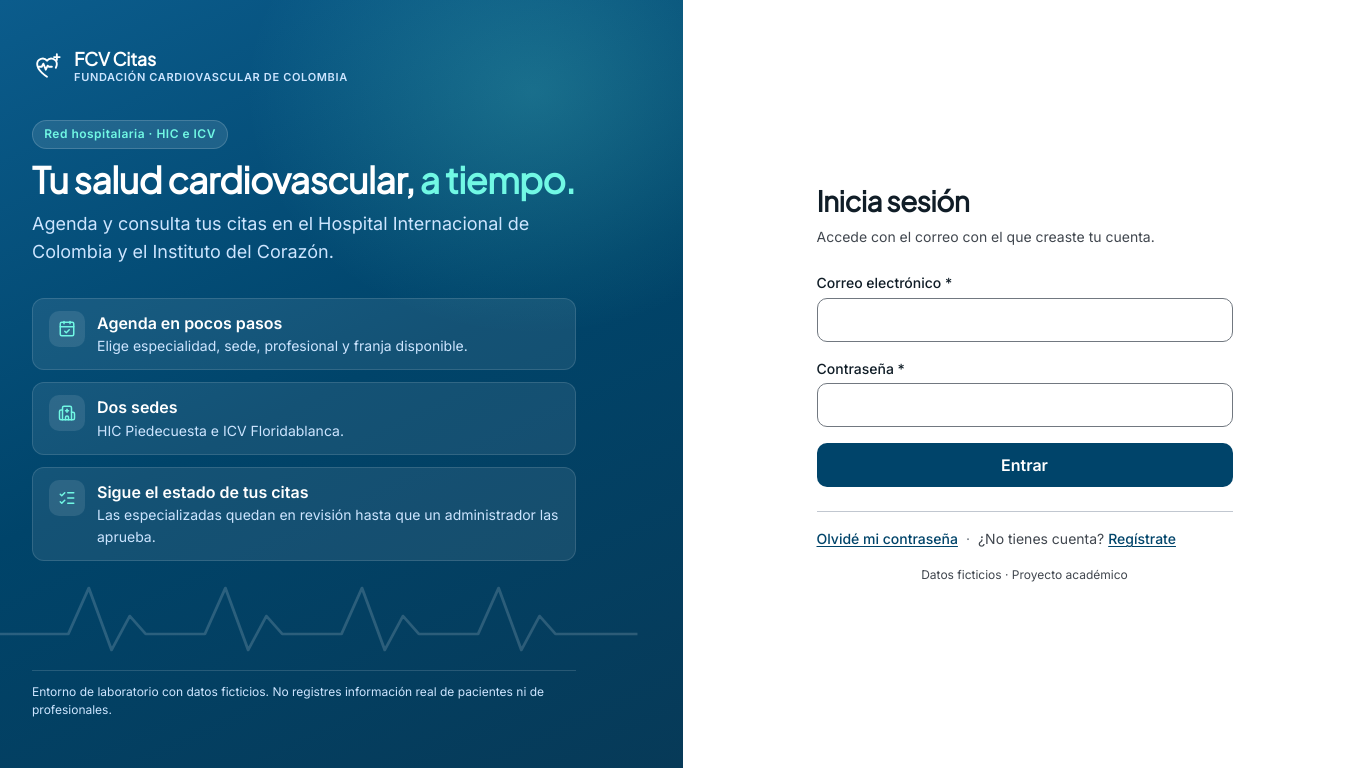
Test: navegación por rol (HU-005 CA-08) › "/" lleva al inicio del rol
Type "persona@fcv.test" into the field labelled "Correo electrónico *" at [1024, 320], box [816,298,1232,342]
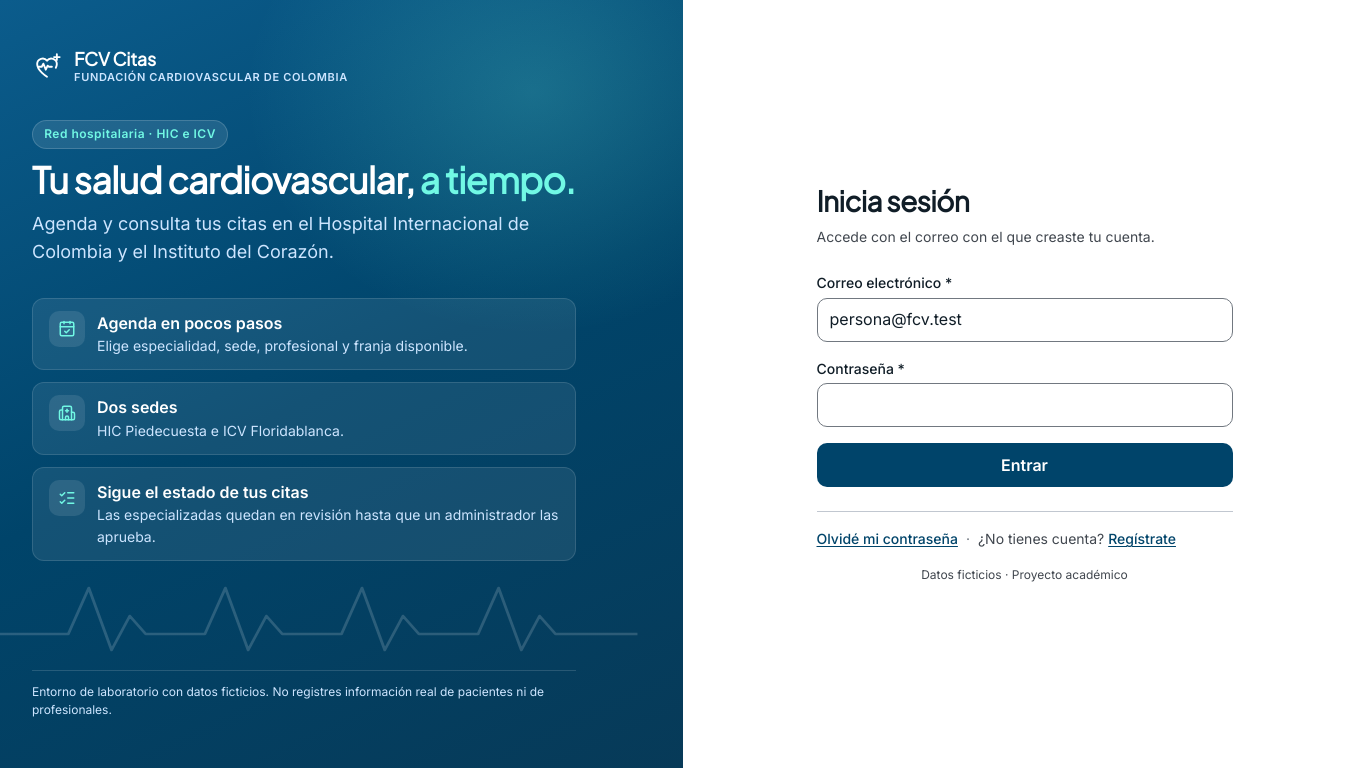
Type "Clave-Secreta#2026" into the password field labelled "Contraseña *" at [1024, 405], box [816,383,1232,427]
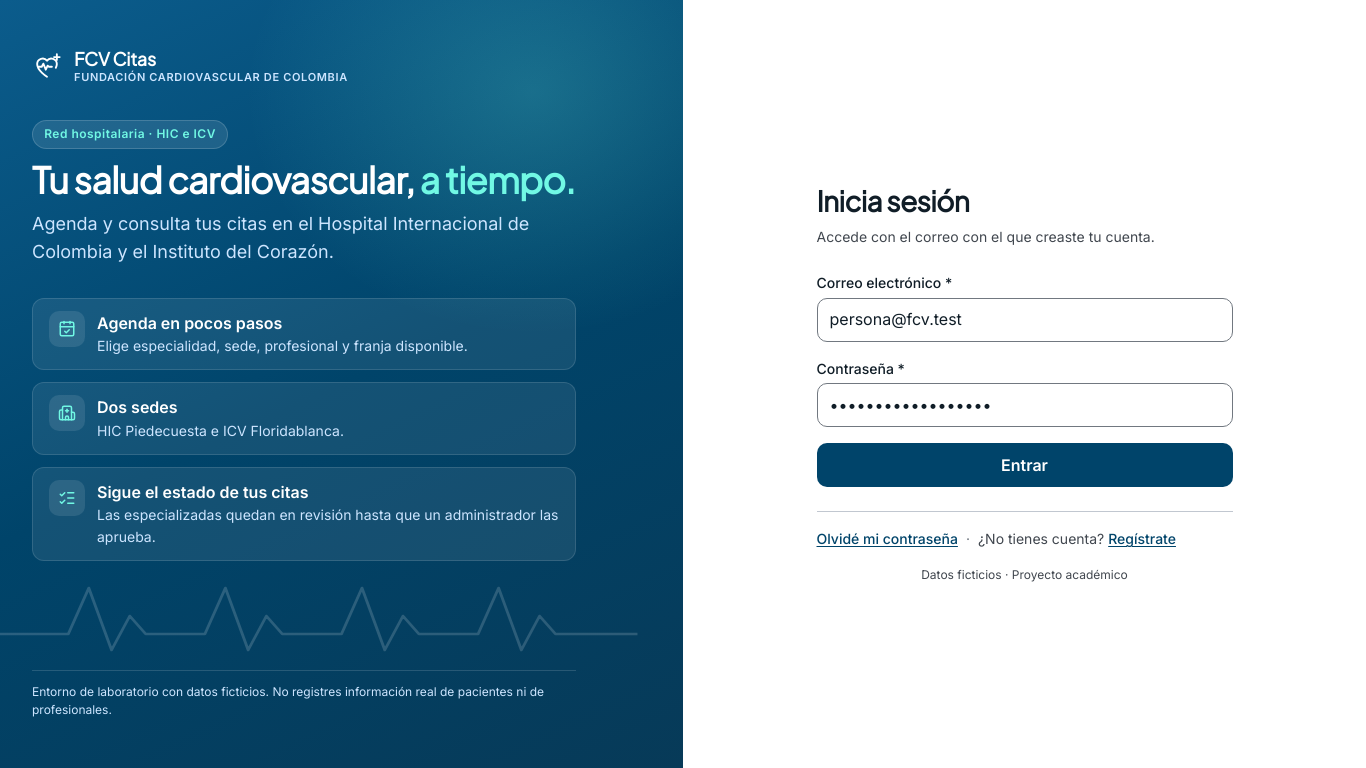
Click the button "Entrar" at [1024, 465], box [816,443,1232,487]
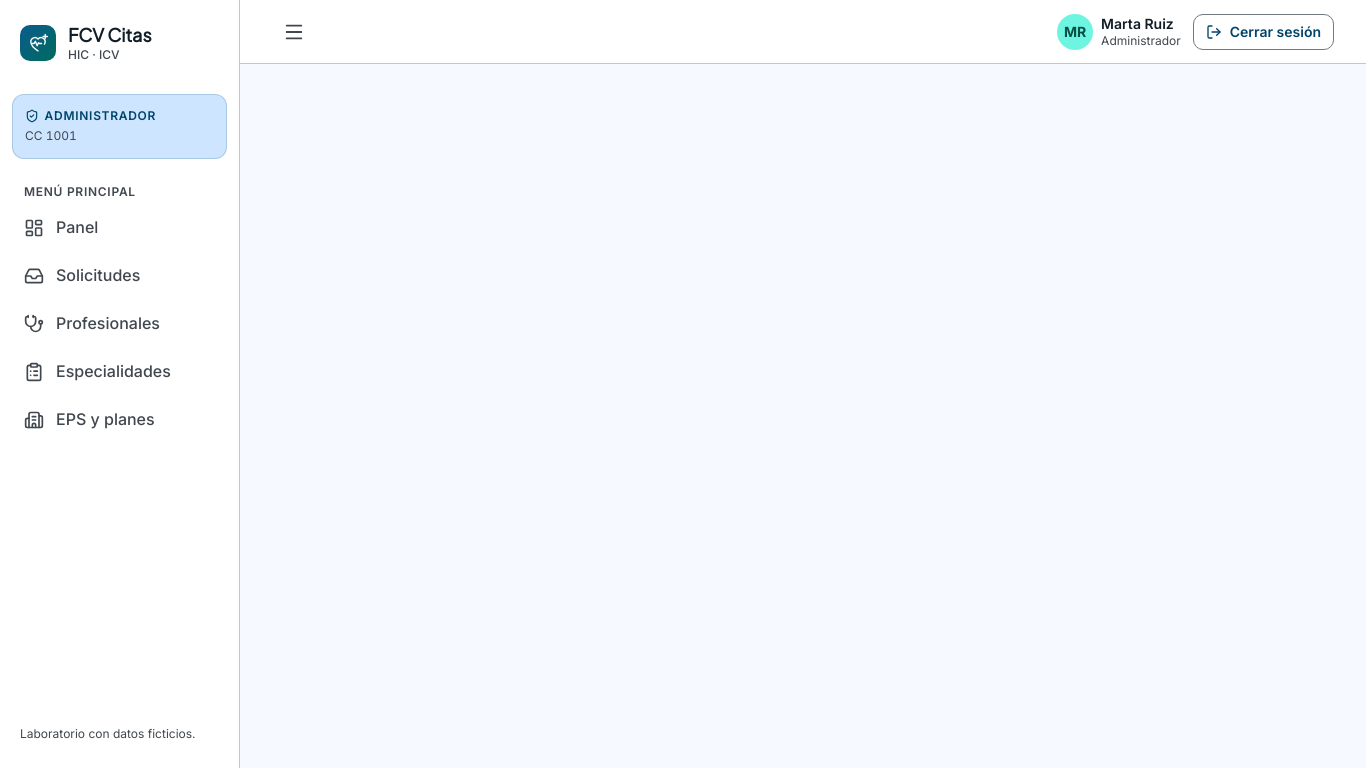
Now the text "Marta Ruiz" is shown, box [1101,15,1181,33]
